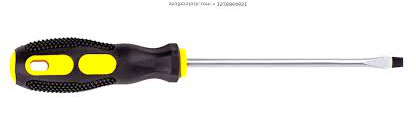Screwdriver: (7, 31, 406, 97)
